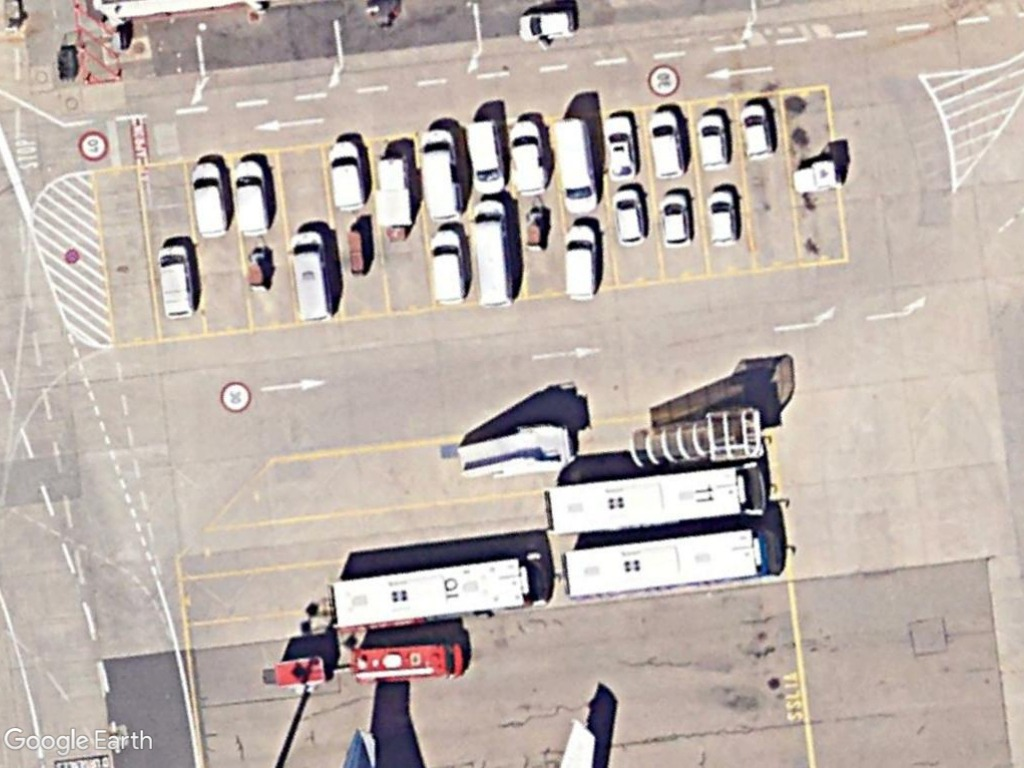bus: (322, 548, 559, 635), (558, 525, 784, 606), (540, 462, 772, 539)
car: (504, 117, 548, 201), (322, 138, 369, 214), (645, 106, 689, 183), (599, 109, 641, 184), (737, 97, 779, 164), (515, 3, 577, 47), (695, 107, 735, 173), (609, 180, 648, 246), (658, 188, 697, 252), (707, 185, 741, 250)
others: (348, 642, 468, 684)
stairtruck: (454, 421, 579, 484)
van: (467, 194, 519, 312), (285, 224, 338, 326), (551, 115, 602, 219), (413, 124, 464, 224), (154, 241, 202, 321), (230, 156, 276, 239), (186, 159, 232, 240), (463, 116, 508, 198), (426, 223, 468, 310), (561, 220, 601, 300)
